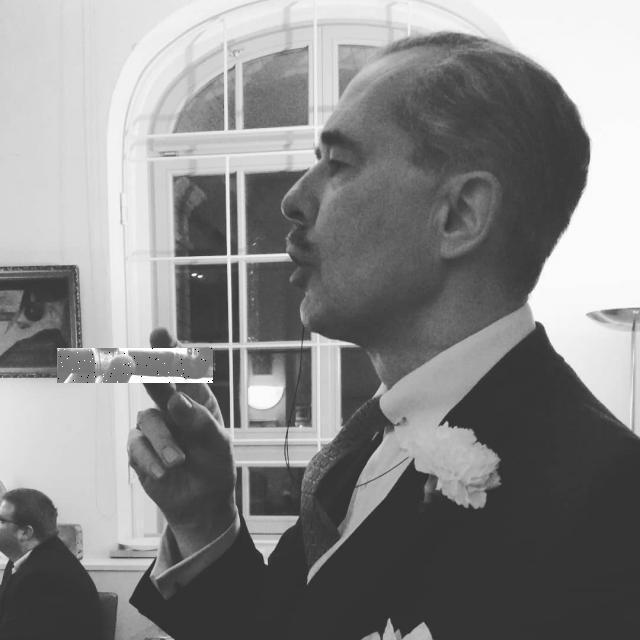smoking: (57, 348, 213, 383)
